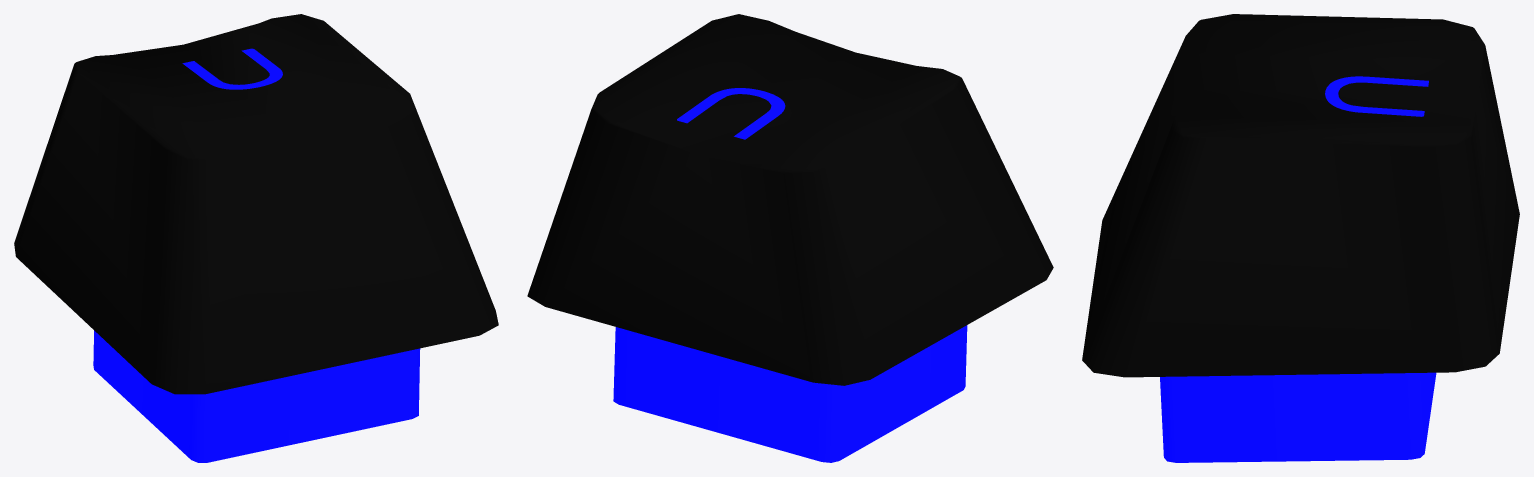
The model's file is u-CEY6uH7b.glb.
3 views of the same model, side by side, from view 1: azimuth 30°, elevation 25°; view 2: azimuth 150°, elevation 25°; view 3: azimuth 270°, elevation 25° (orthographic). The views are drawn at different scales.
Parts seen in each view (by area): view 1: StudyShelf_1038; view 2: StudyShelf_1038; view 3: StudyShelf_1038.
Part boxes in pixels (box(x1,y1,x2,y2)): StudyShelf_1038: box(14, 14, 498, 462); StudyShelf_1038: box(527, 14, 1053, 462); StudyShelf_1038: box(1082, 14, 1519, 462).
Size of the model in its own units: 4.35 by 3.62 by 4.35.
